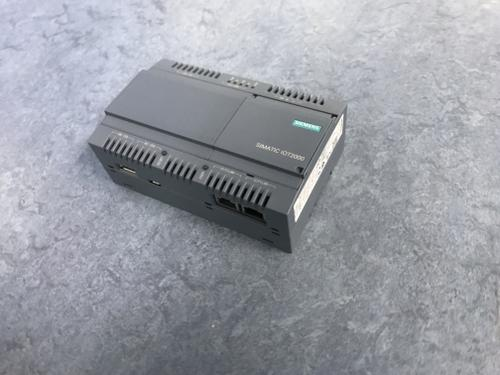device: (88, 58, 348, 254)
